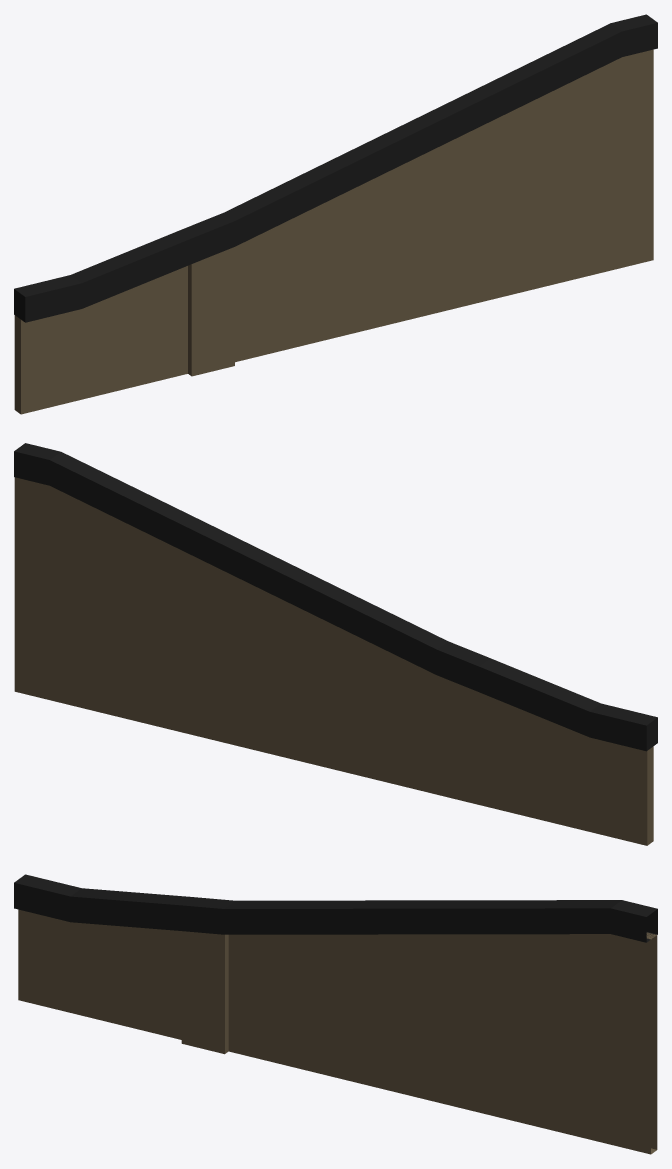
Rendered from SM_wall_roofborder.fbx.
The picture shows the model from 3 angles, top to bottom: view 1: azimuth 30°, elevation 25°; view 2: azimuth 150°, elevation 25°; view 3: azimuth 330°, elevation 25°; orthographic projection.
Parts seen in each view (by area): view 1: wall_roofborder; view 2: wall_roofborder; view 3: wall_roofborder.
Part boxes in pixels (x1,y1,x2,y2): wall_roofborder: [14, 14, 657, 414]; wall_roofborder: [14, 443, 657, 845]; wall_roofborder: [14, 874, 657, 1154].
Size of the model in its own units: 1376 by 500 by 42.88.
